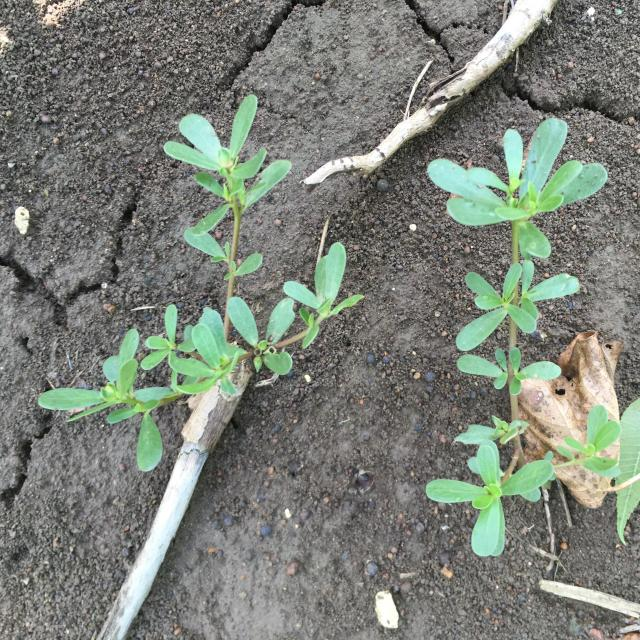Purslane: (38, 94, 364, 472), (425, 118, 622, 557)
